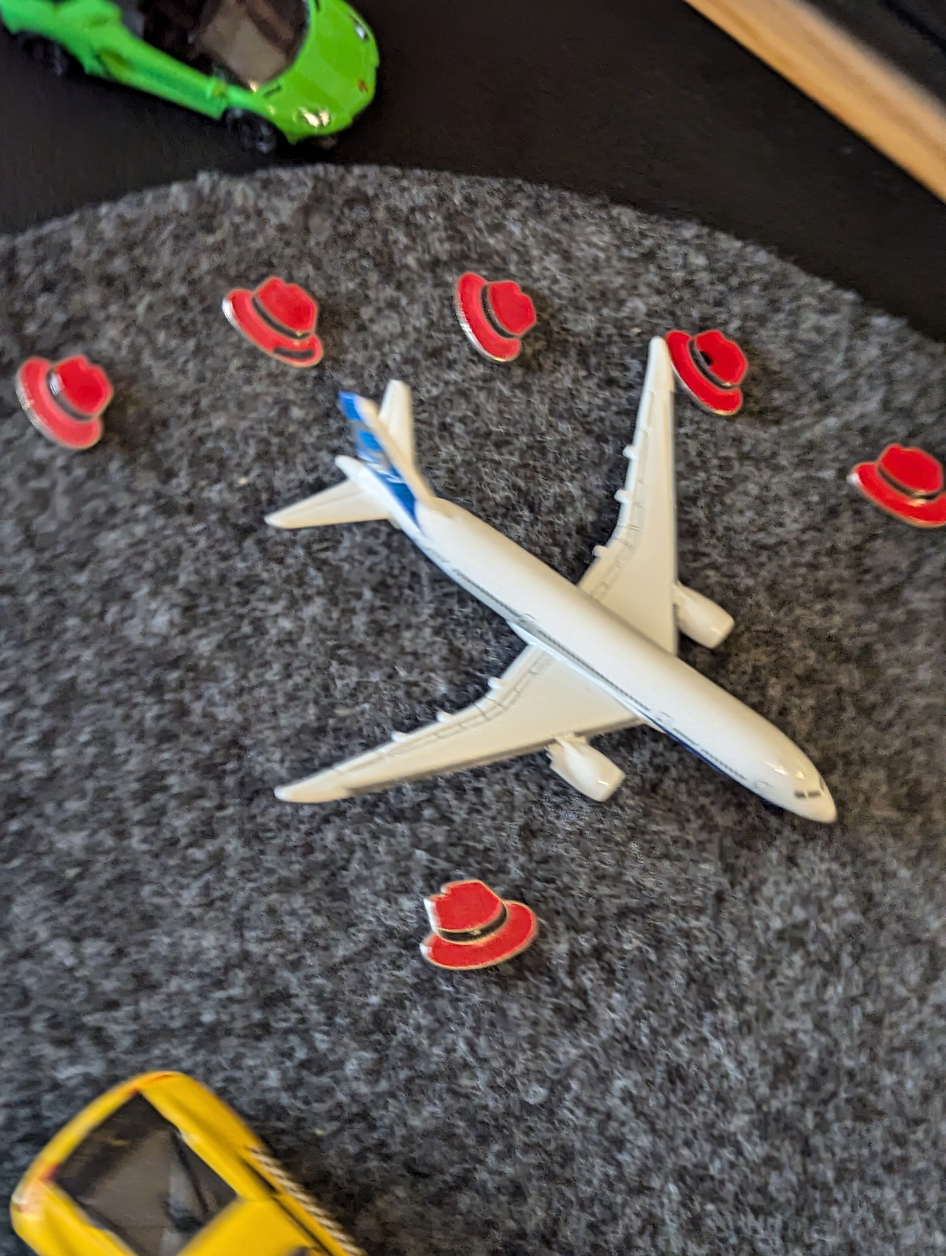Airplane: (203, 336, 881, 867)
Car: (3, 1029, 405, 1256), (0, 0, 397, 170)
Red-Hat: (374, 850, 570, 982), (195, 248, 356, 406), (3, 327, 142, 476), (435, 233, 551, 390), (645, 293, 773, 427), (836, 418, 946, 564)
Scratch: (246, 316, 335, 377), (684, 325, 734, 378)
